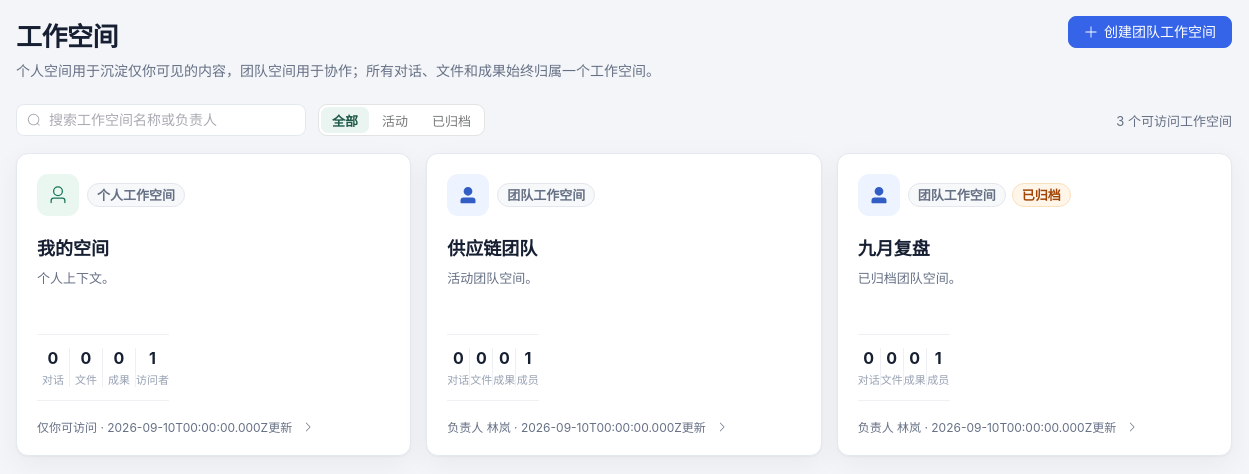
Test: WorkspacesView 归档筛选与归档卡片（design §2.1 / §6） › switching to 活动 requests ?status=active and keeps personal spaces visible
The image size is (1249, 474).
Click the tab with test id "workspace-filter-active" at (395, 120), box [371,107,419,133]
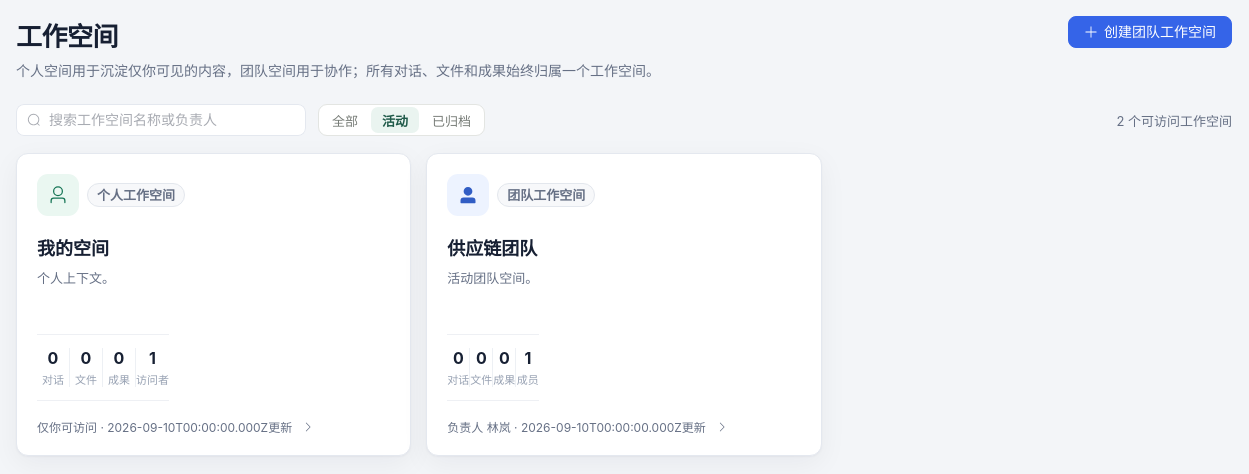
Expected: the text "我的空间" is shown, [37,234,109,260]
Now the text "九月复盘" is gone
